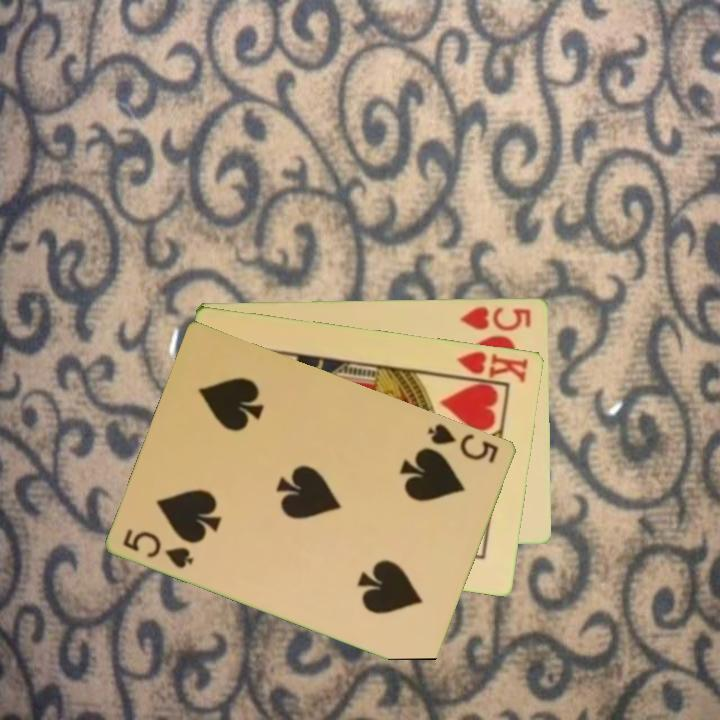5h: (457, 302, 534, 334)
5s: (424, 419, 502, 466), (120, 525, 198, 572)
Kh: (447, 347, 532, 386)
